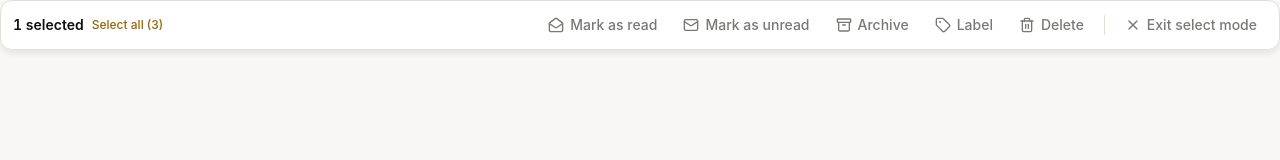
it: the bulk bar's label picker › says there are none, rather than offering an unfillable filter
What coordinates should you click on to do the following:
click the button with aria-label "Apply label"
I would click on:
 (964, 25)
Its box is [925,9,1003,41].
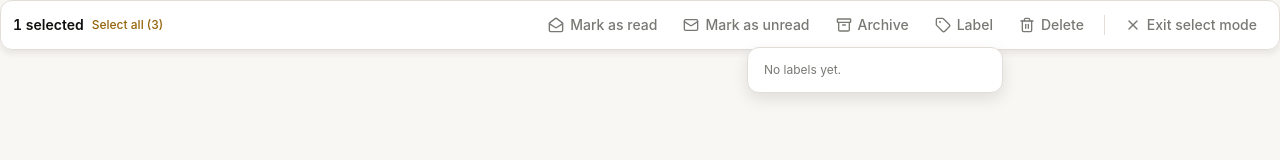
Check: the text "No labels yet." is shown, box [764,62,841,77]
